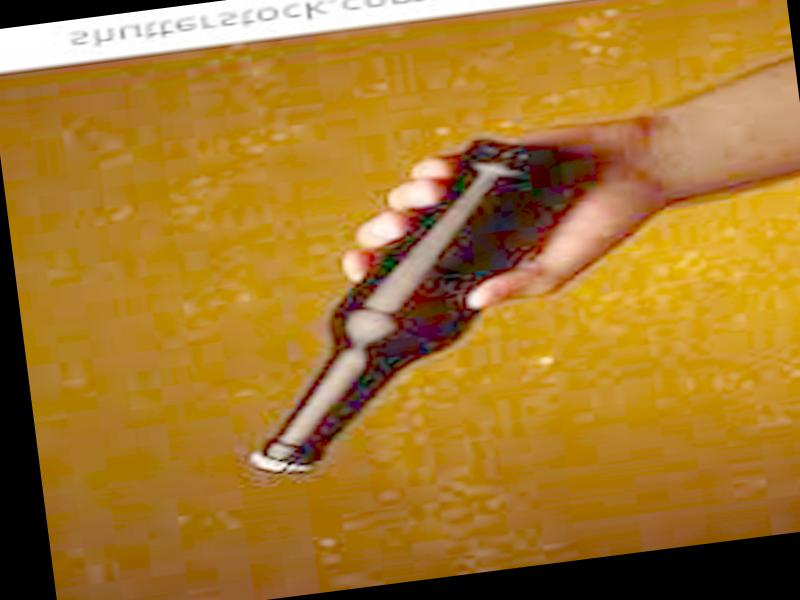Beer: (208, 123, 644, 481)
